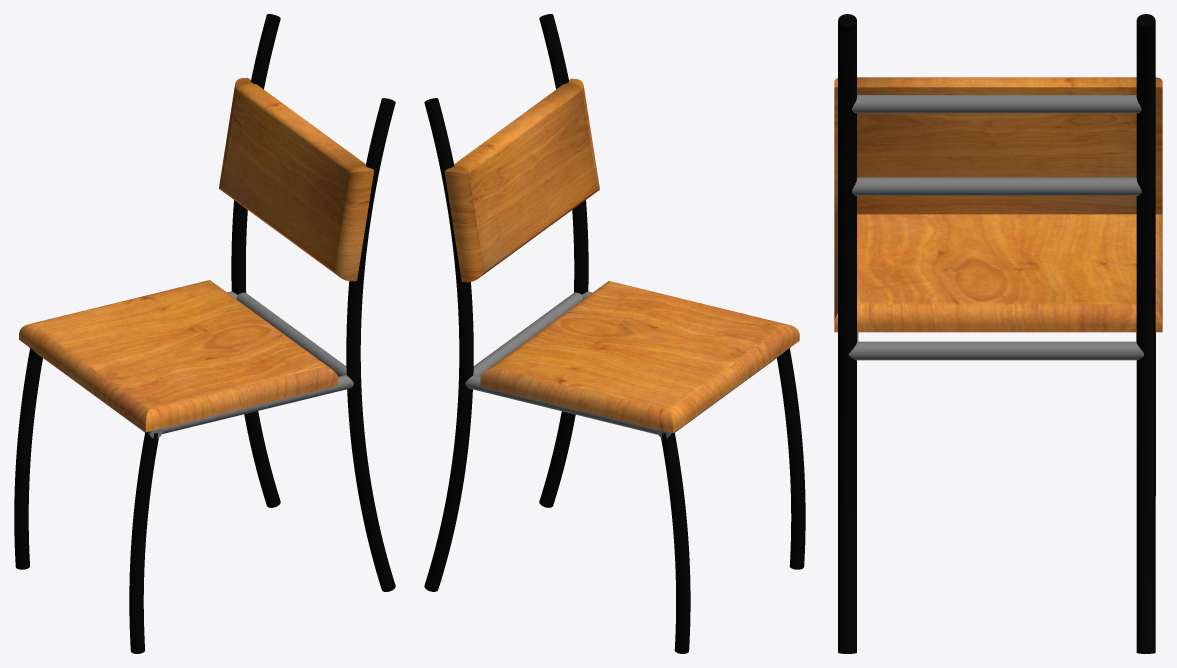
File: chair.obj
The picture shows the model from 3 angles, left to right: view 1: azimuth 30°, elevation 25°; view 2: azimuth 150°, elevation 25°; view 3: azimuth 270°, elevation 25°; orthographic projection. The views are drawn at different scales.
Parts seen in each view (by area): view 1: polySurface14; view 2: polySurface14; view 3: polySurface14.
Part boxes in pixels (left/top/right/bottom): polySurface14: left=14, top=14, right=395, bottom=653; polySurface14: left=424, top=14, right=805, bottom=653; polySurface14: left=834, top=14, right=1162, bottom=653.
Bounding box in the file's own units: 20.42 × 36.24 × 16.92.
Materials: 3 (1 with a texture image).
